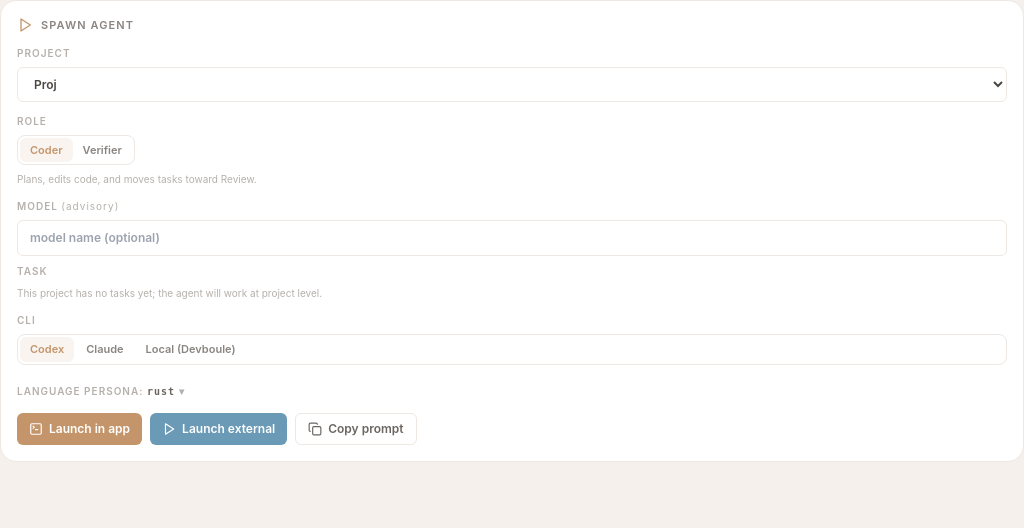
Test case: SpawnPanel — orchestrator model surfacing › shows the configured model READ-ONLY and points at Settings (P1)
Click the radio button labelled "Local (Devboule)": click(191, 349) [136, 337, 246, 362]
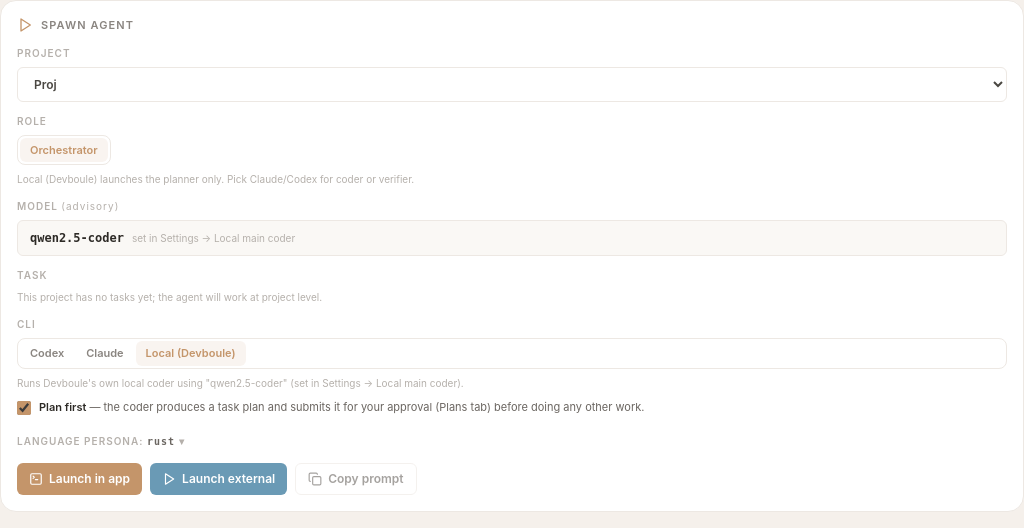
Check: the text "qwen2.5-coder" is shown, box [30, 231, 124, 245]
Check: the text "Settings → Local main coder" is shown, box [132, 232, 295, 244]
